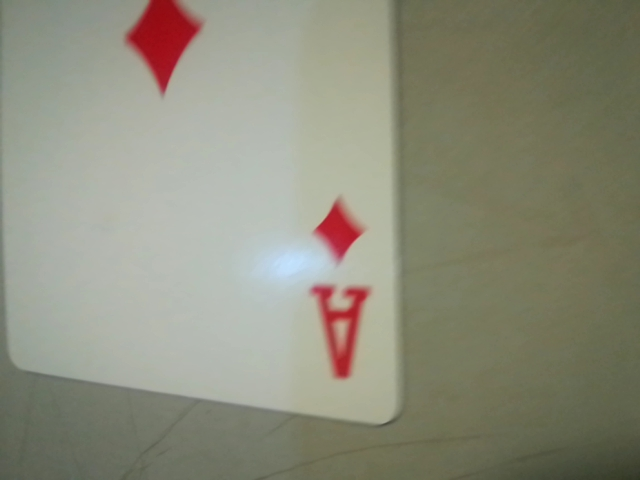fk a: (287, 186, 389, 393)
